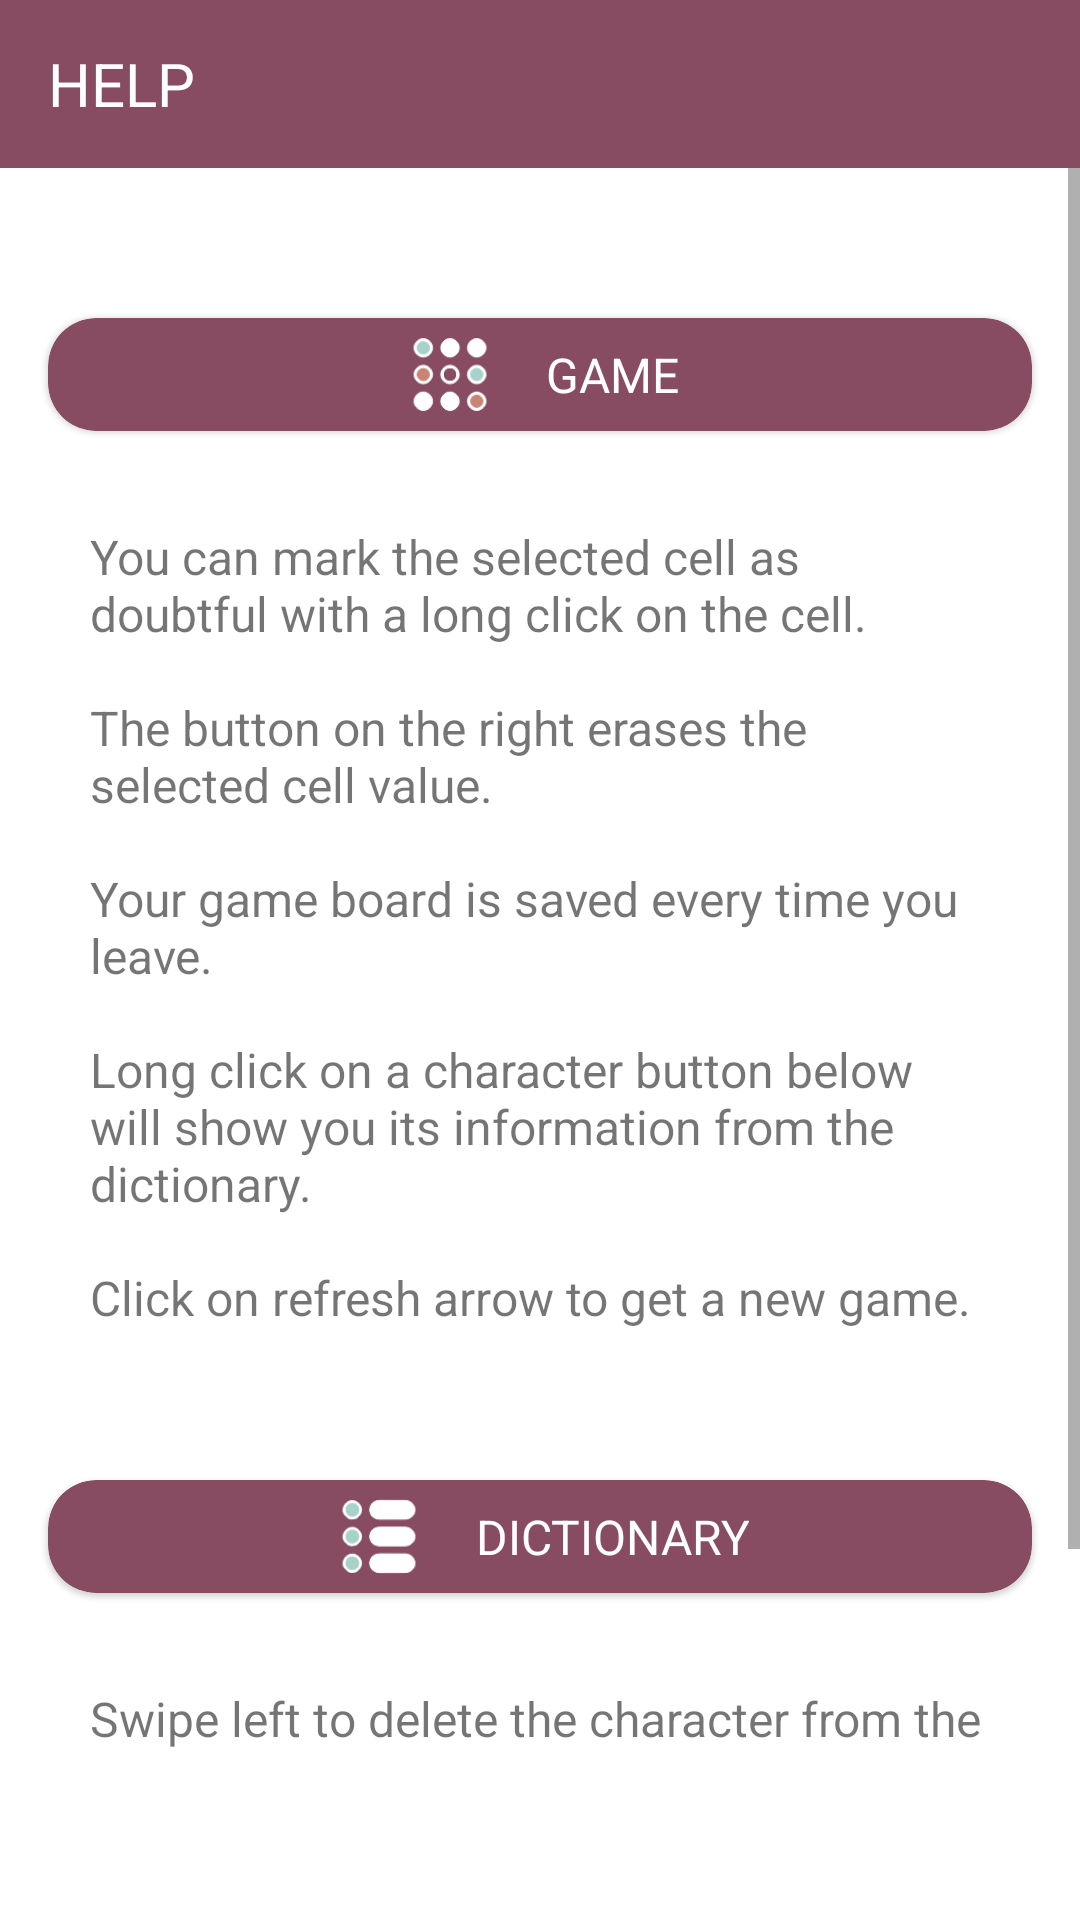

Screen size 1080w x 1920h. Icon name, then its box in pixels as (x1, y1, x2, y2):
sudoku dict stroke and: (342, 1500, 416, 1573)
sudoku stroke and: (413, 338, 487, 411)
